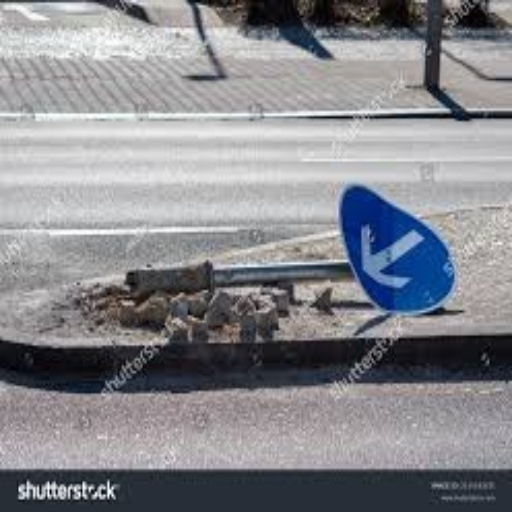Keep left: (331, 181, 469, 328)
